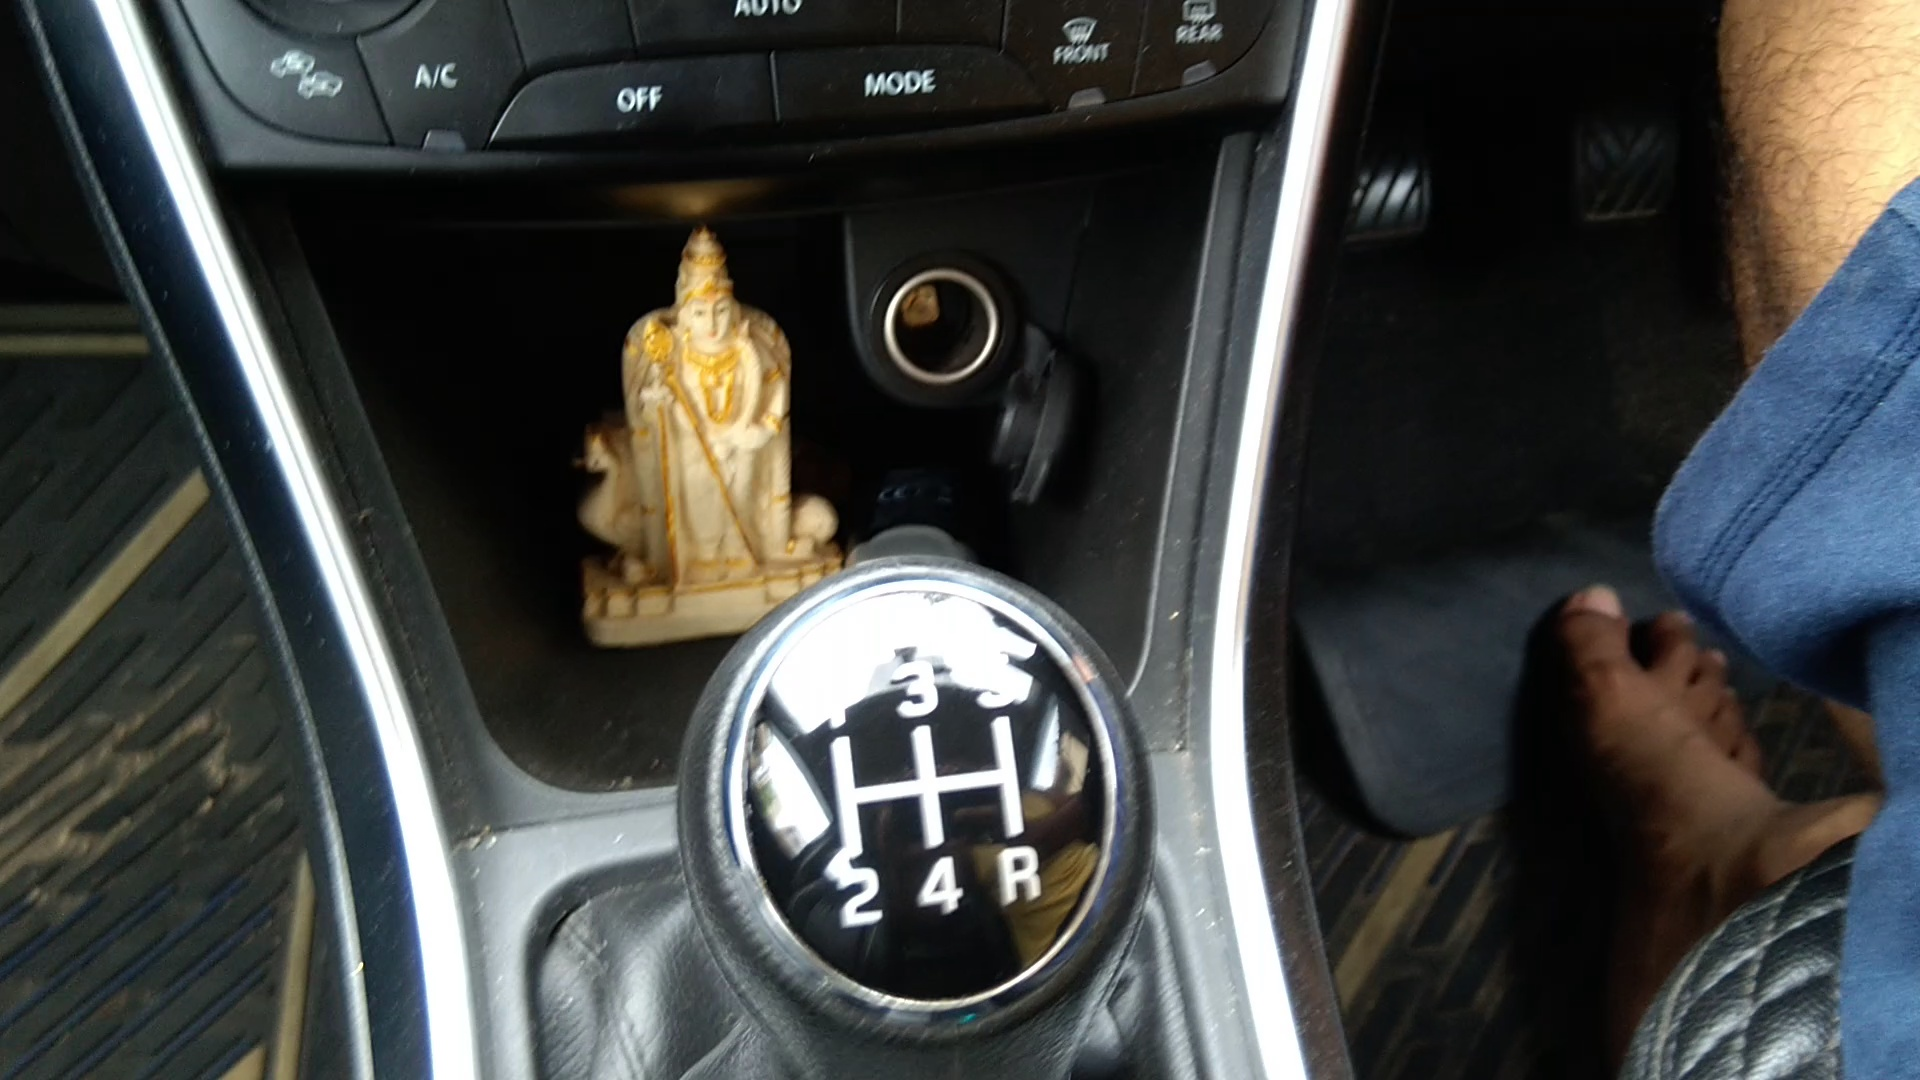manual_gear: (688, 562, 1166, 1060)
